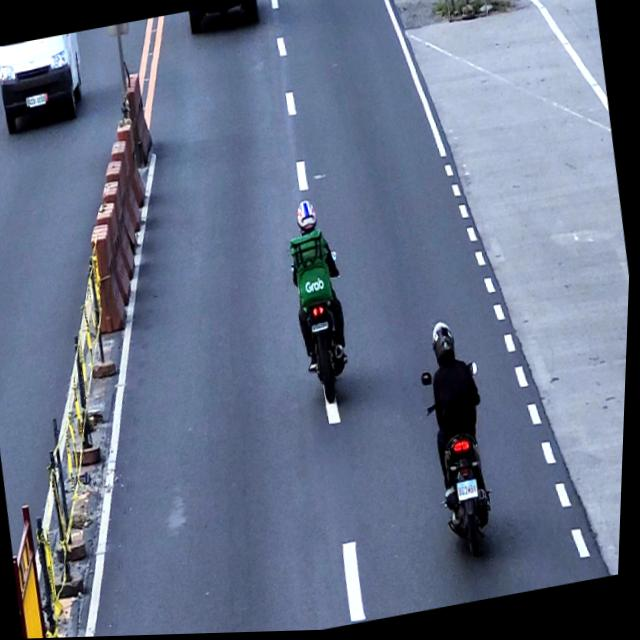Car: (0, 32, 93, 136)
License-Plate: (460, 481, 483, 504), (28, 94, 48, 108), (313, 323, 332, 335)
Motorcycle: (418, 361, 511, 568), (287, 250, 363, 413)
